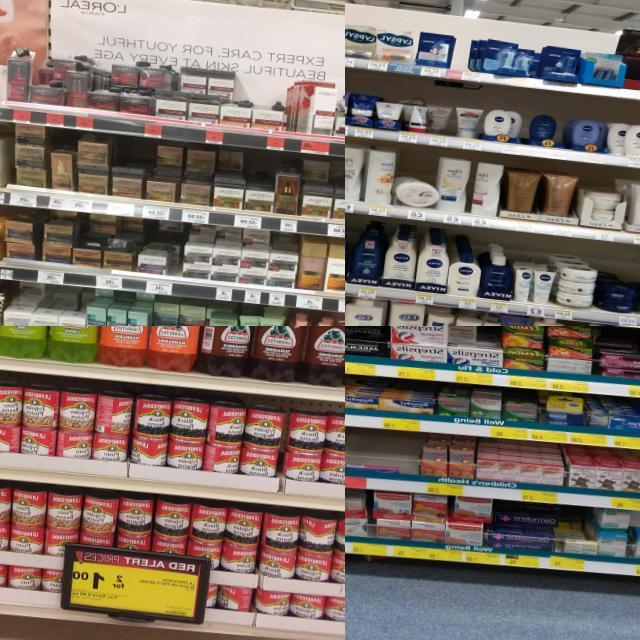empty: (345, 428, 419, 490), (450, 36, 470, 80)
